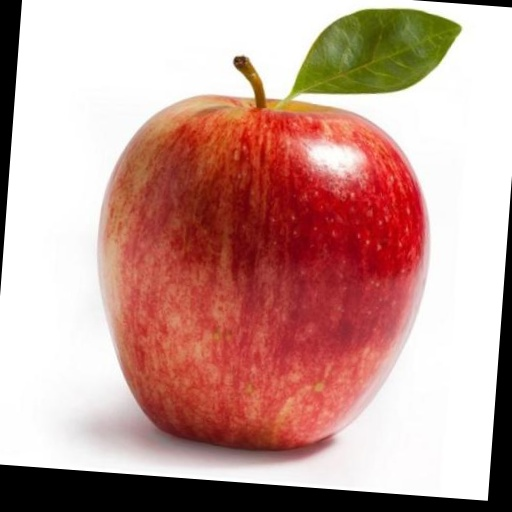fruit: (98, 60, 428, 449)
